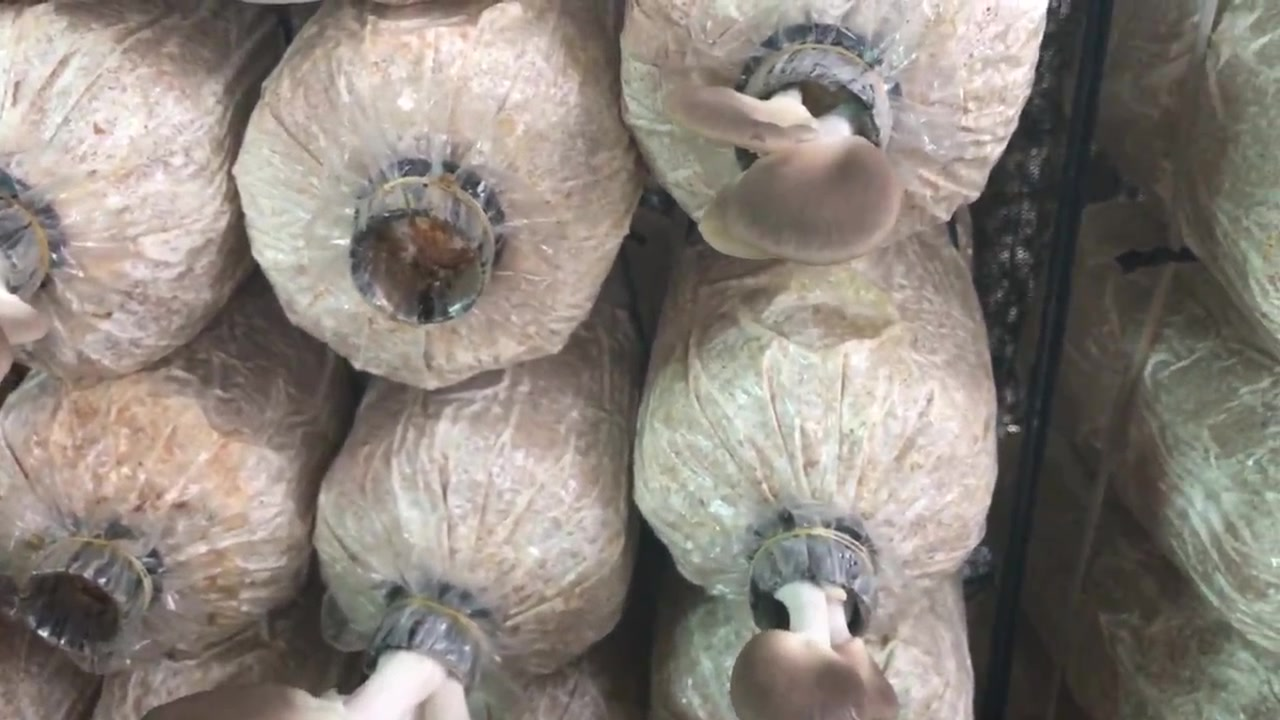nam: (660, 24, 900, 270), (147, 599, 478, 720), (731, 528, 900, 720)
